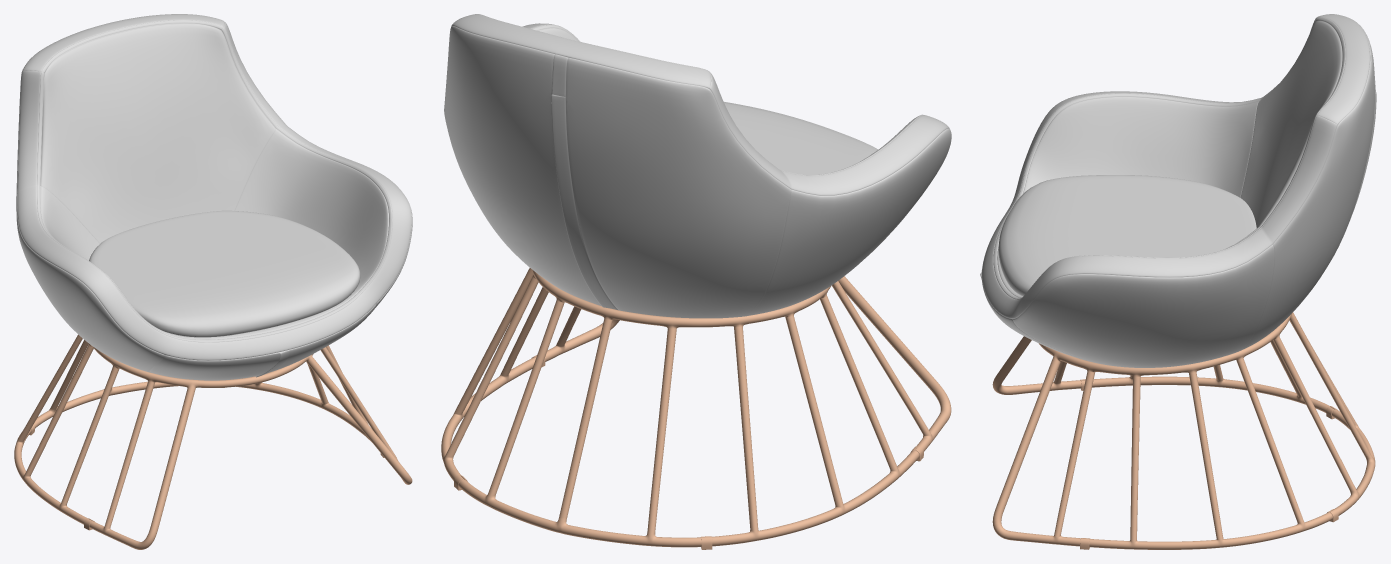
Rendered from SBH_WINTON.glb.
3 renders of one model, left to right at view 1: azimuth 30°, elevation 25°; view 2: azimuth 150°, elevation 25°; view 3: azimuth 270°, elevation 25°, orthographic. The views are drawn at different scales.
Parts seen in each view (by area): view 1: WINTON; view 2: WINTON; view 3: WINTON.
Boxes of the visible parts, x1,y1,x2,y2 form: WINTON: (14, 14, 412, 549); WINTON: (441, 14, 951, 549); WINTON: (980, 14, 1376, 549).
Size of the model in its own units: 0.7781 by 0.8217 by 0.7115.
